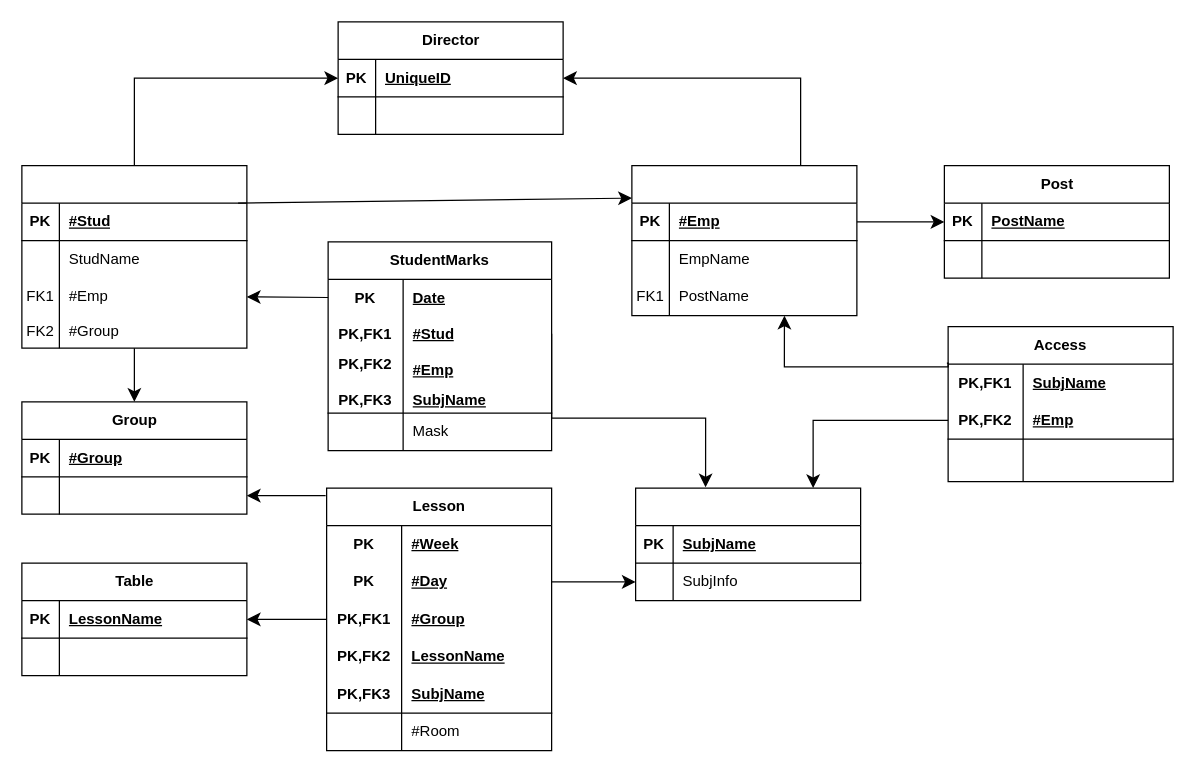
Some shapes in this 1195 by 773 pixel diagram are drawn without their labels. Here are the shapes that lost their labels. From the top down, the box of each, then its label:
(21, 164, 247, 348): Student
(631, 164, 857, 316): Employee
(634, 487, 861, 601): Subject
